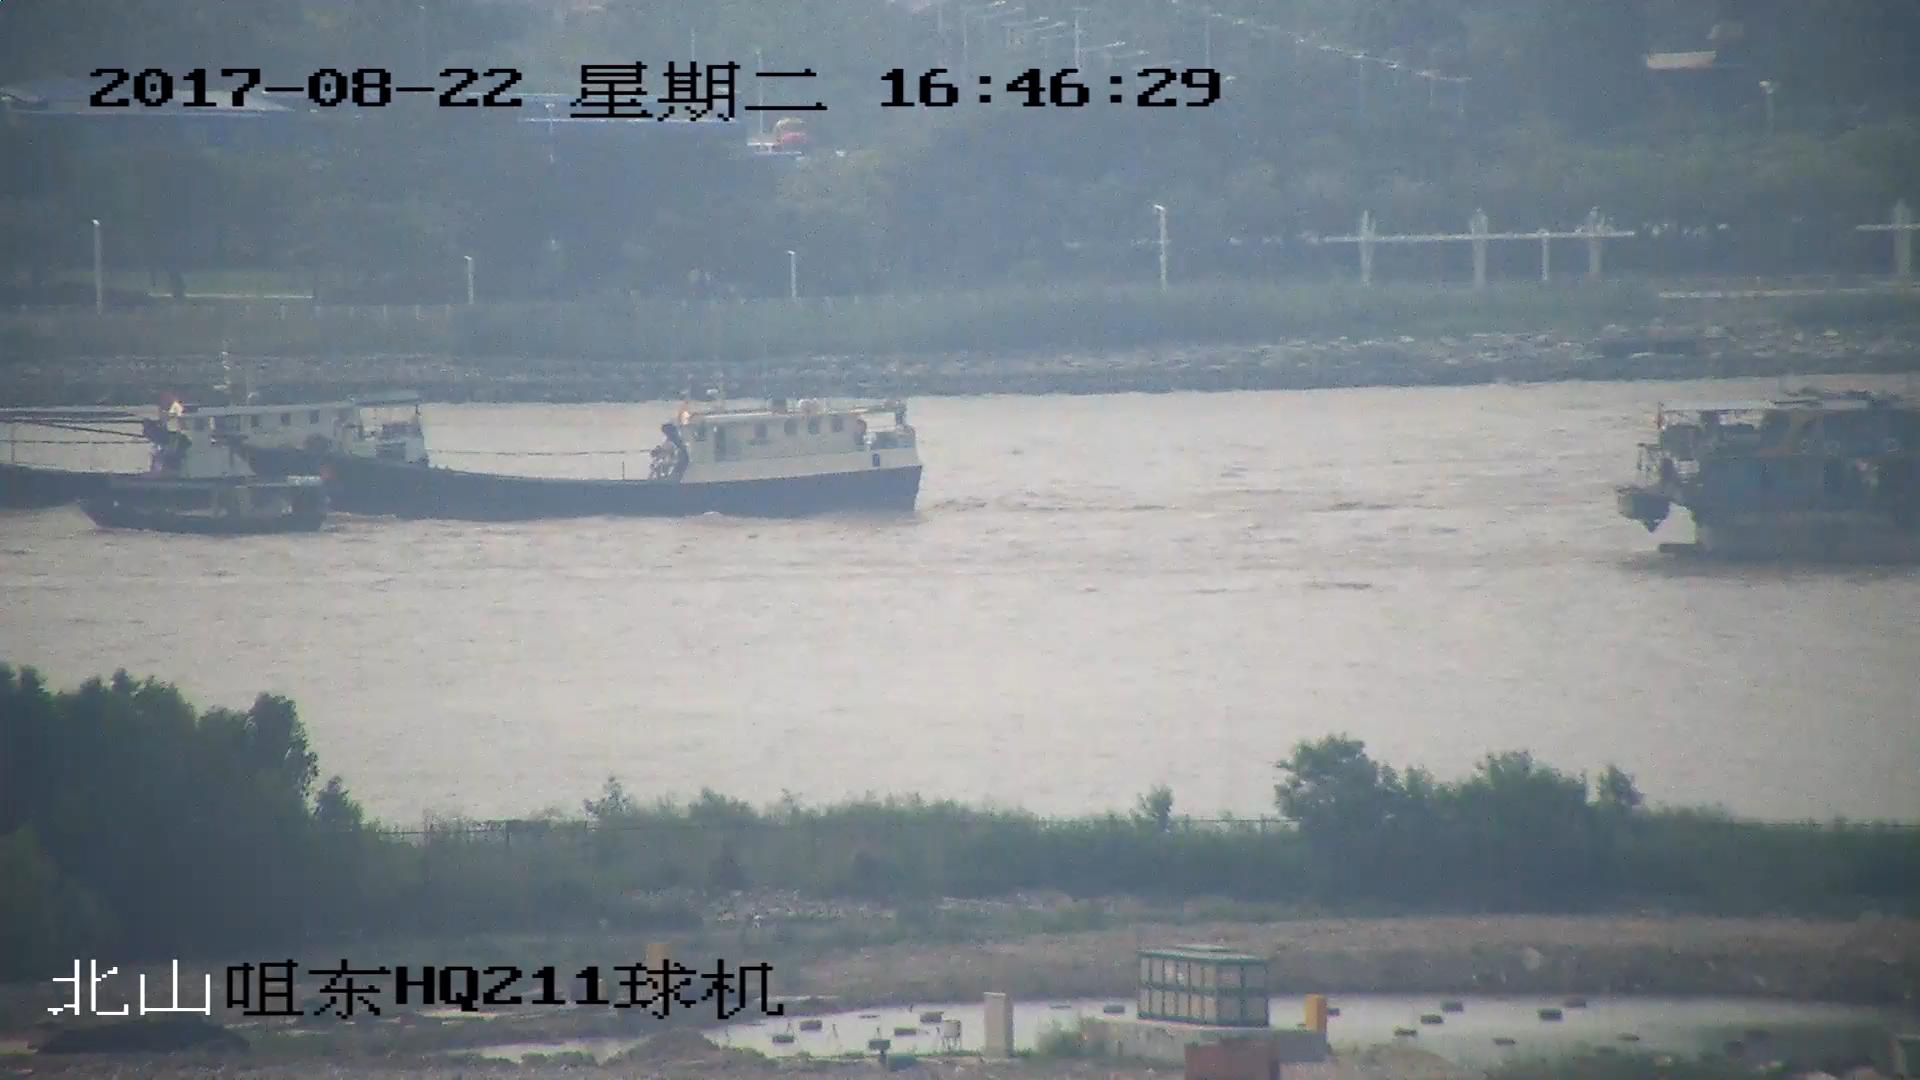fishing boat: (240, 403, 925, 514), (1, 389, 438, 510), (80, 474, 319, 535)
